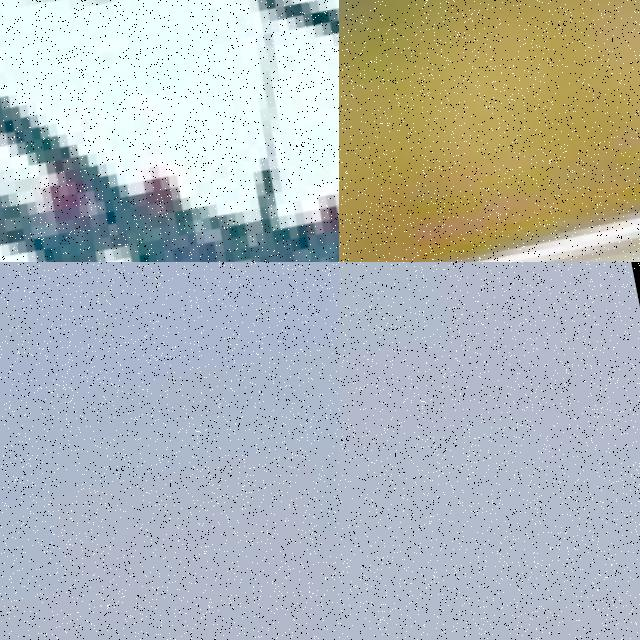drone: (0, 0, 339, 262), (339, 0, 640, 262)
